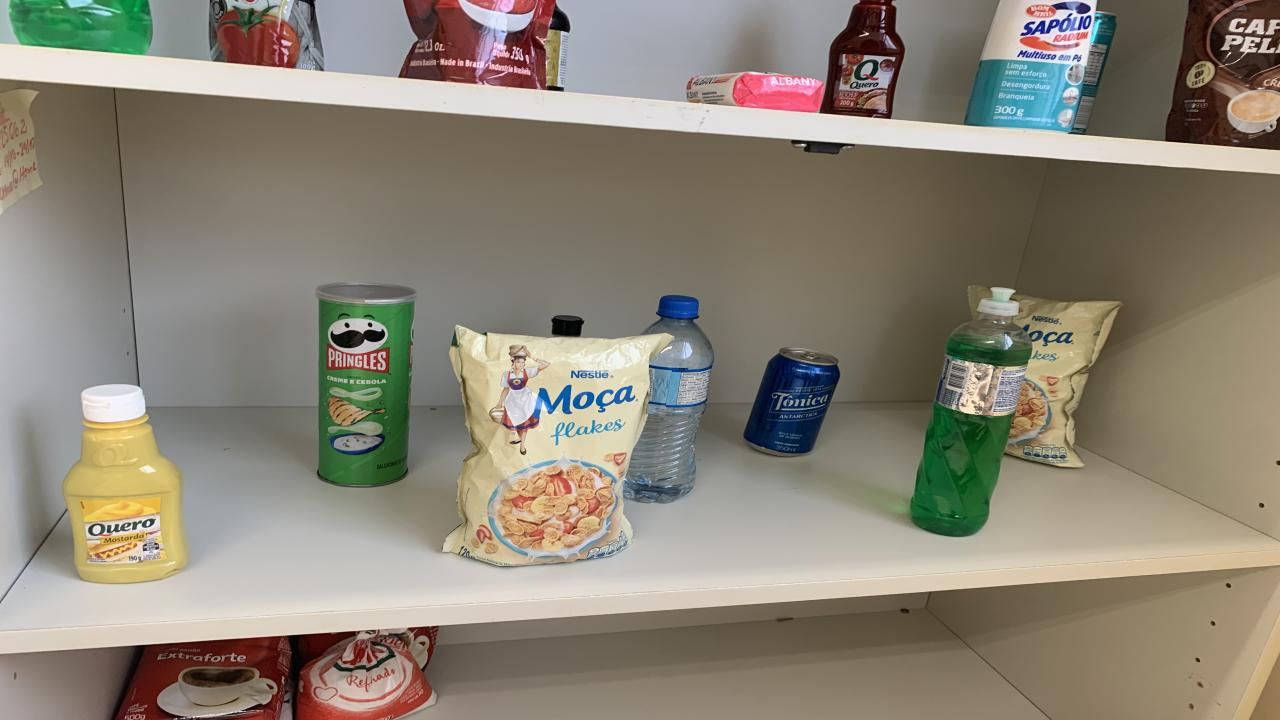Cleaner-Cleanup_Items: (965, 0, 1098, 133)
Coffee-Pantry_Items: (1165, 0, 1280, 150)
Detergent-Cleanup_Items: (910, 287, 1032, 536), (8, 0, 152, 54)
English_Sauce-Pantry_Items: (545, 6, 570, 90), (552, 315, 582, 338)
Flakes-Snacks: (442, 326, 672, 566), (1005, 292, 1122, 467)
Ketchup-Pantry_Items: (820, 0, 905, 118)
Mustard-Pantry_Items: (62, 384, 190, 583)
Pringles-Snacks: (315, 283, 415, 486)
Soap-Cleanup_Items: (688, 71, 825, 112)
Tea-Drinks: (1070, 11, 1115, 135)
Tomato_Sauce-Pantry_Items: (400, 0, 555, 90), (210, 0, 325, 69)
Tonic-Drinks: (745, 347, 840, 456)
Water_Bottle-Drinks: (622, 294, 715, 502)
